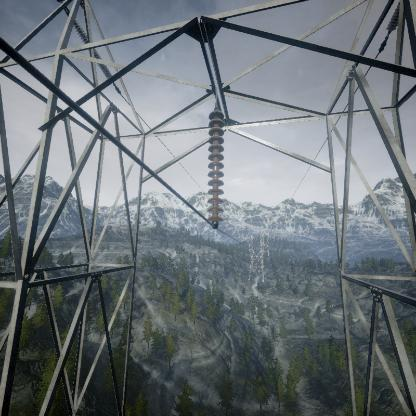insulator: (206, 108, 227, 226)
